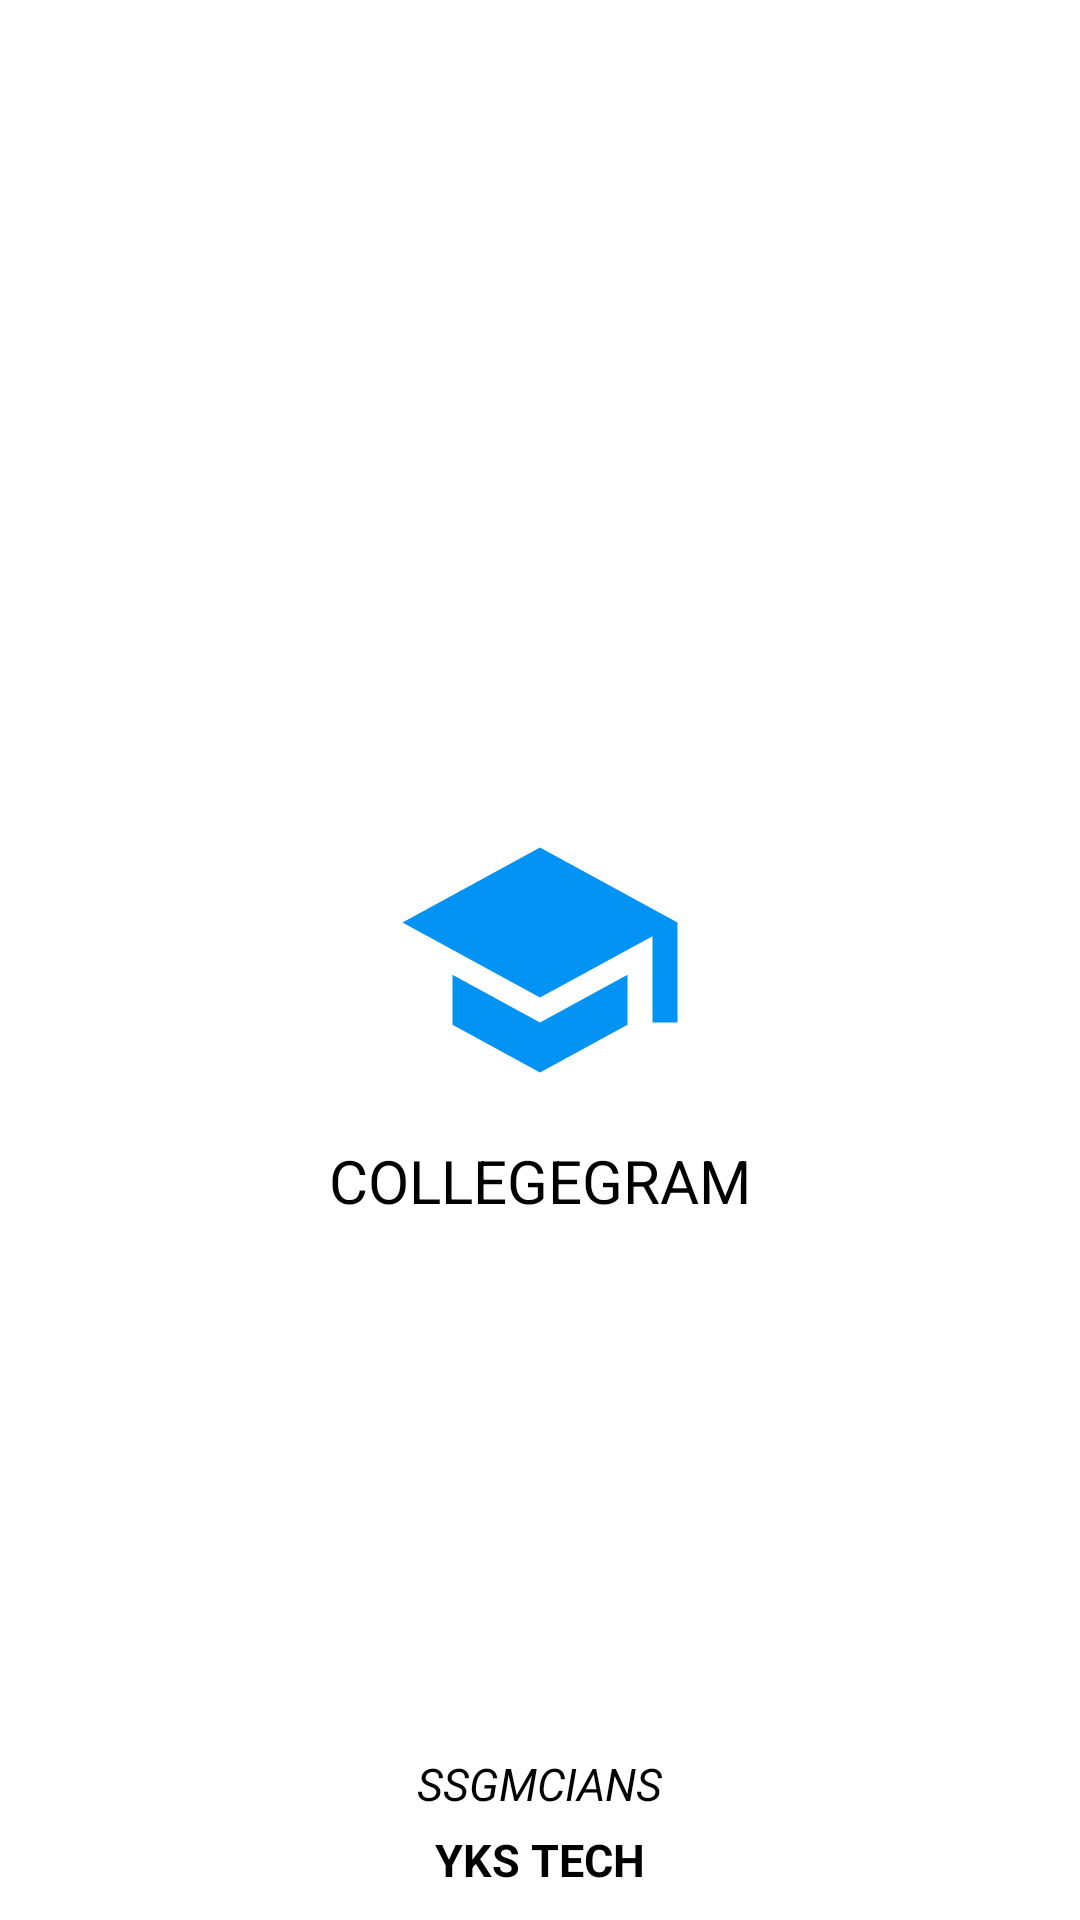

Where to tap for icons on this 1080px×1920px app screen, as (x,y):
school: (540,960)
